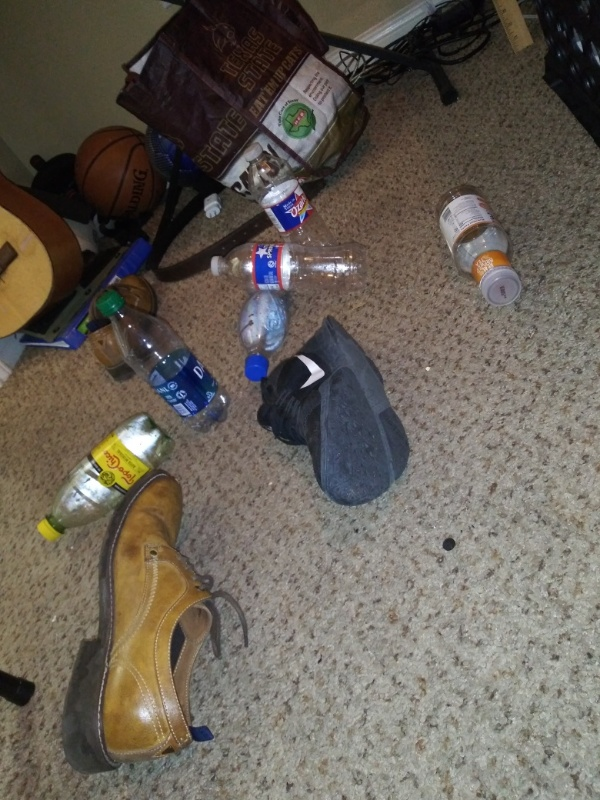bottle: (94, 285, 234, 438), (34, 408, 174, 549), (429, 184, 525, 312), (237, 139, 343, 251), (206, 238, 373, 298), (232, 272, 299, 384)
